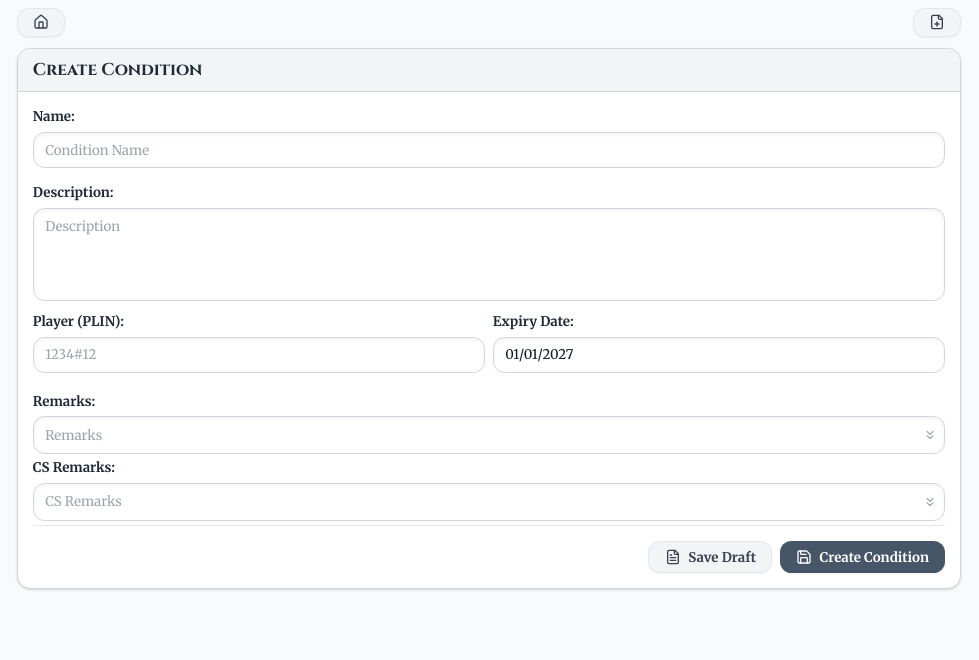
Test: CreateCondition Page › validates required fields: name and description
# All empty → Name required first
Submit the form
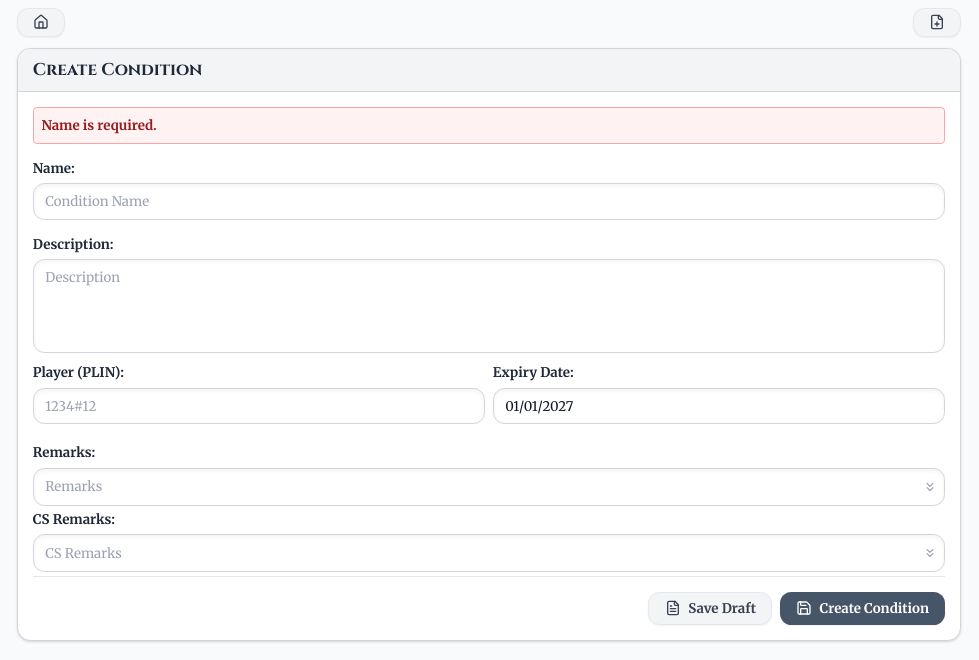
Check: the text "Name is required." is shown, box [41, 117, 157, 134]
# Fill name only → Description required
Type "Some Name" into the field with placeholder "Condition Name" at [489, 202], box [33, 183, 945, 220]
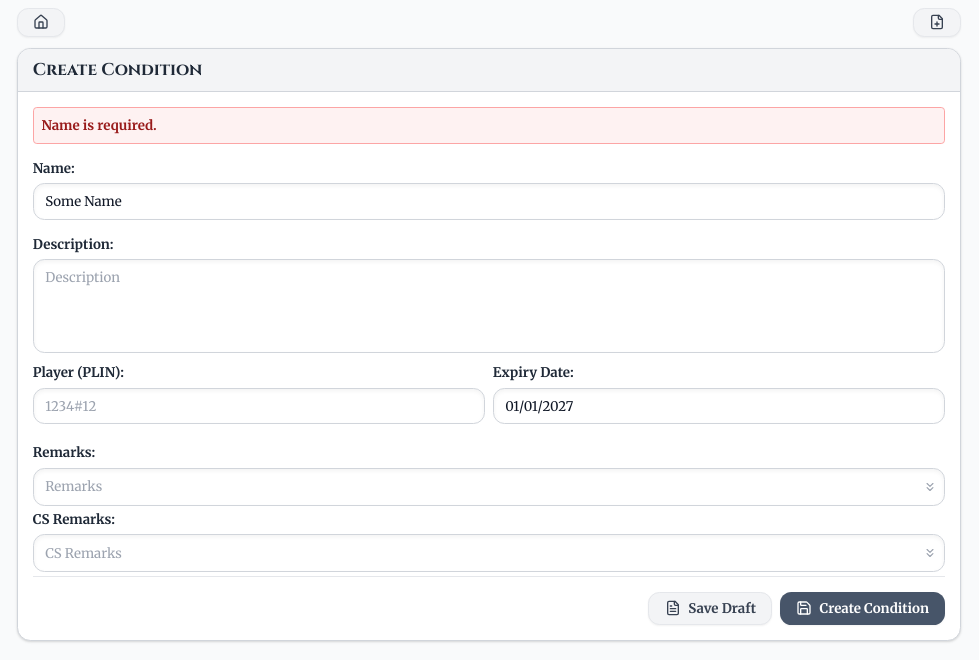
Submit the form
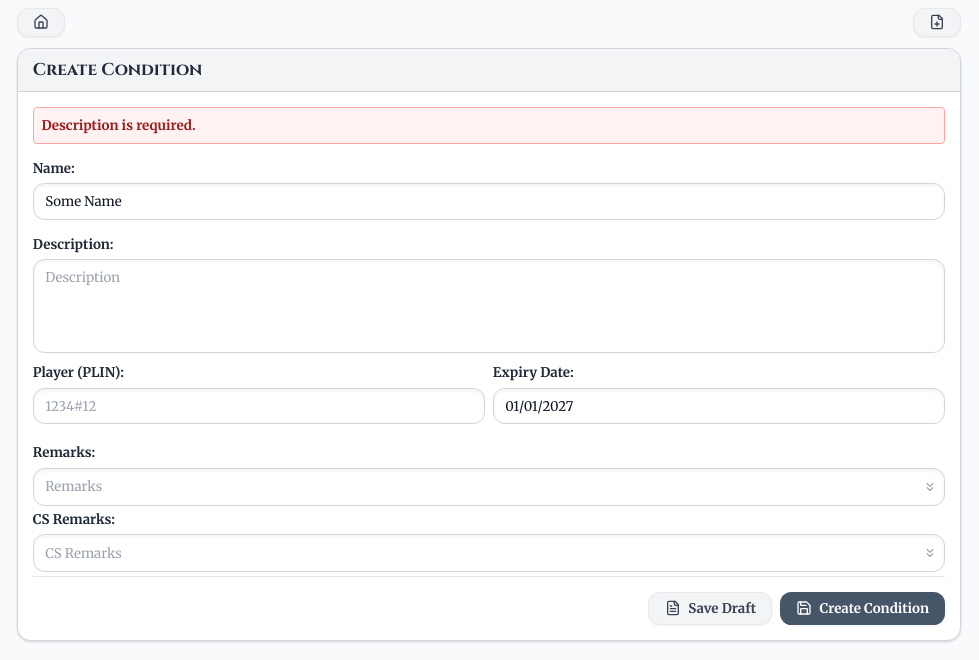
Check: the text "Description is required." is shown, box [41, 117, 196, 134]
